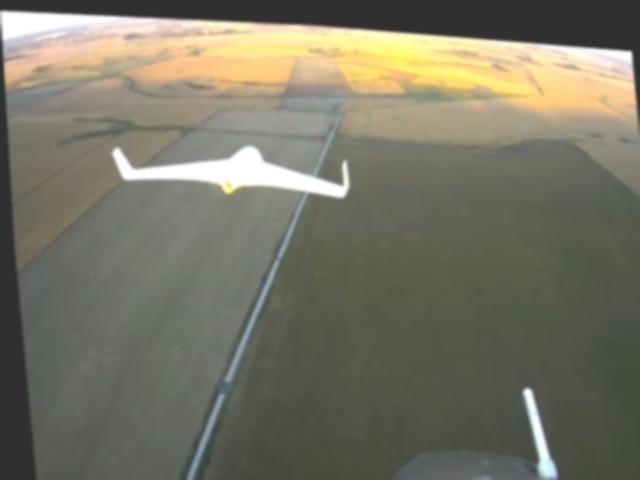plane: (109, 130, 349, 202)
